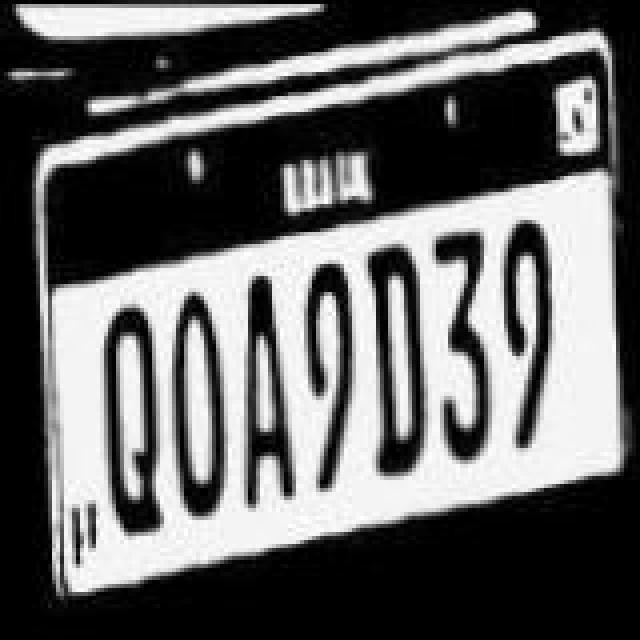3: (428, 230, 492, 466)
9: (502, 212, 562, 448), (298, 260, 358, 492)
A: (240, 270, 300, 506)
D: (362, 234, 430, 474)
O: (168, 290, 228, 518)
Q: (98, 306, 162, 538)
